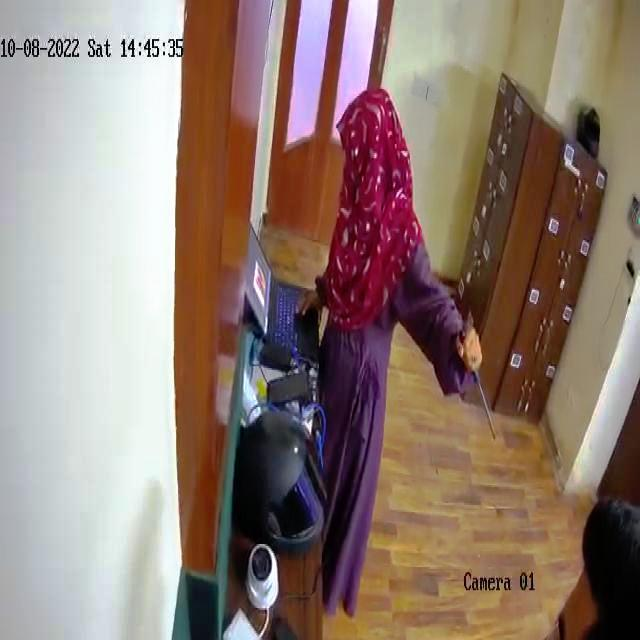Knife: (459, 329, 505, 455)
